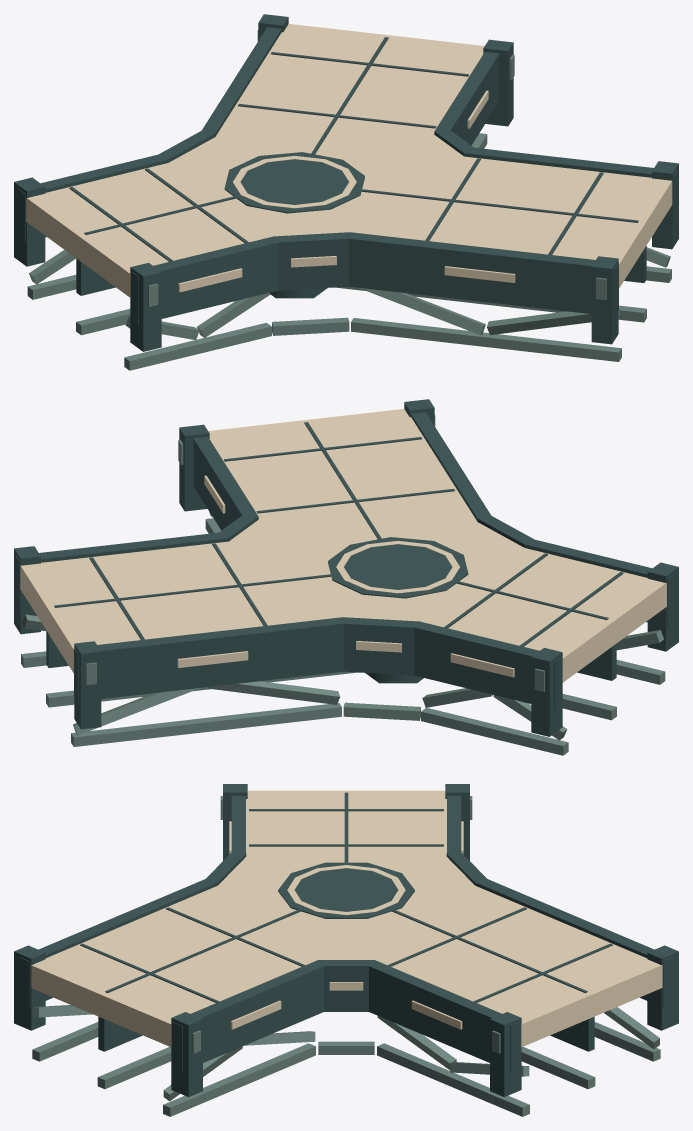
The model's file is Junction_WideFork_lab2.glb.
3 views of the same model, one above another, from view 1: azimuth 30°, elevation 25°; view 2: azimuth 150°, elevation 25°; view 3: azimuth 270°, elevation 25° (orthographic). The views are drawn at different scales.
Parts seen in each view (by area): view 1: Junction_WideFork; view 2: Junction_WideFork; view 3: Junction_WideFork.
Boxes of the visible parts, left/top/right/bottom form: Junction_WideFork: left=14, top=14, right=678, bottom=370; Junction_WideFork: left=14, top=399, right=678, bottom=755; Junction_WideFork: left=14, top=784, right=678, bottom=1116.
Bounding box in the file's own units: 7.91 × 1.58 × 9.21.
